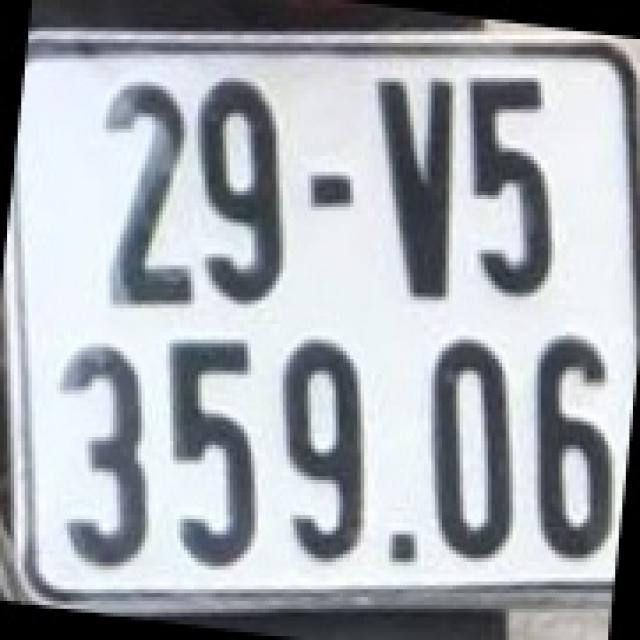0: (428, 336, 516, 562)
2: (99, 74, 194, 308)
3: (57, 340, 152, 570)
5: (166, 332, 262, 566), (466, 70, 558, 297)
6: (530, 332, 616, 562)
9: (194, 74, 290, 304), (279, 336, 368, 562)
V: (371, 78, 460, 301)
